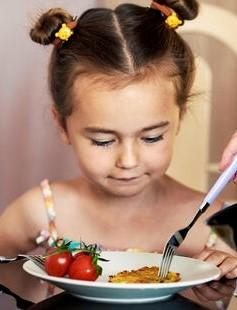Healthy: (48, 51, 198, 205)
